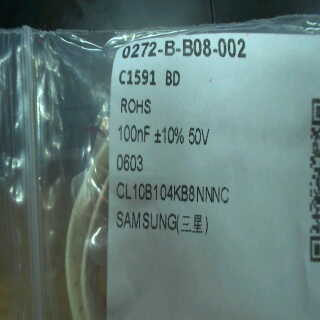100nF: (116, 120, 155, 143)
